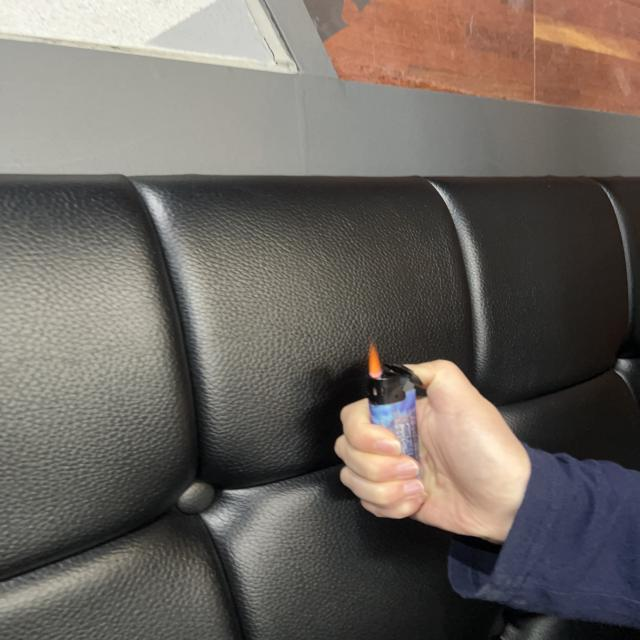fire: (368, 340, 384, 380)
